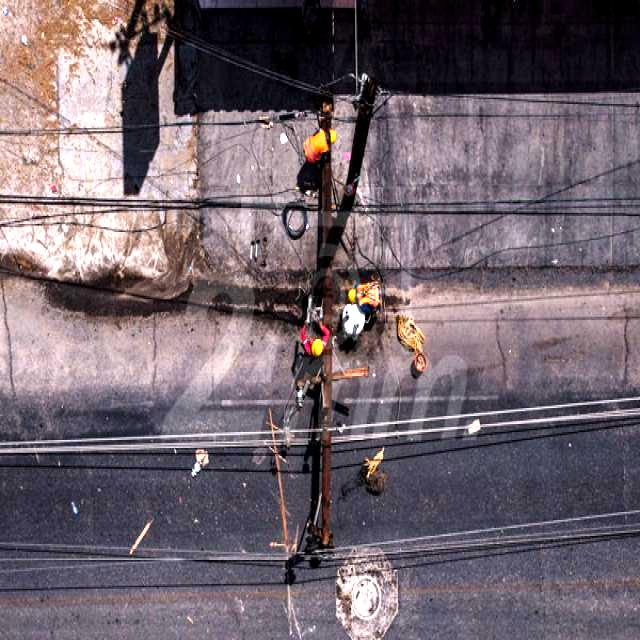Broken Pole: (319, 85, 332, 548)
